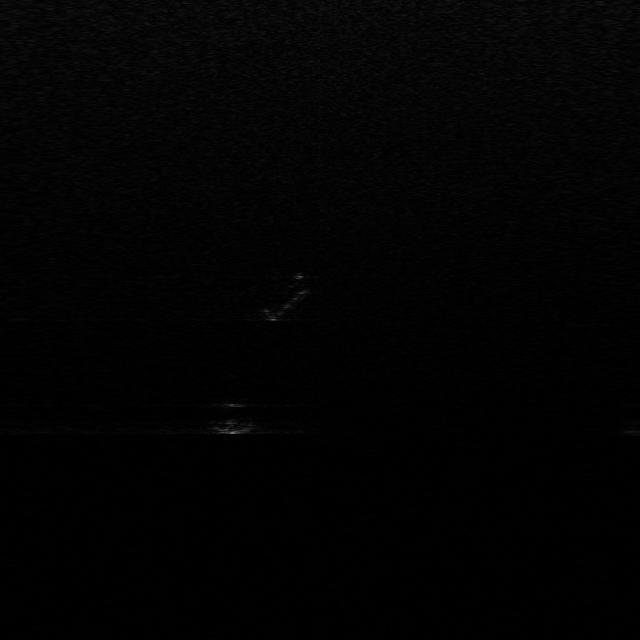ball: (203, 399, 259, 435)
tyre: (262, 276, 309, 322)
